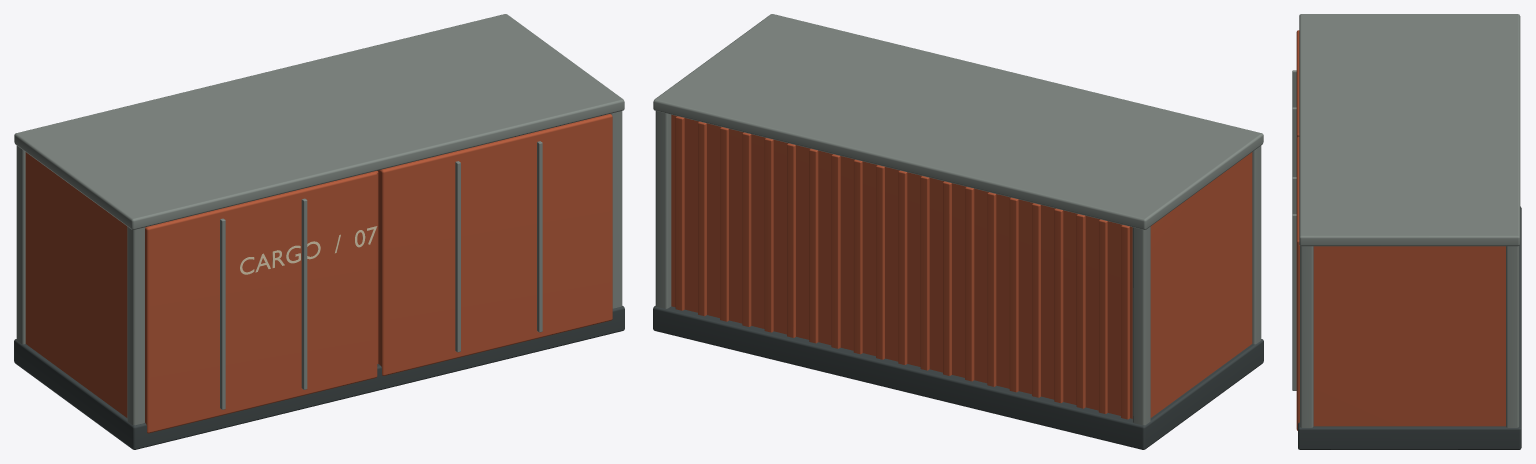
File: container.glb
3 renders of one model, left to right at view 1: azimuth 30°, elevation 25°; view 2: azimuth 150°, elevation 25°; view 3: azimuth 270°, elevation 25°, orthographic. The views are drawn at different scales.
Parts seen in each view (by area): view 1: Roof.001, Cargo door.001, Cargo door, Shell, Chassis, Corner post, Corner post.002, Corner post.001, Door rod.001, Door rod, Door rod.002, Door rod.003 (+1 smaller); view 2: Shell, Roof.001, Chassis, Corner post.001, Corner post.003, Corner post, Pressed steel rib.013, Pressed steel rib.033, Pressed steel rib.005, Pressed steel rib.011, Pressed steel rib.019, Pressed steel rib.027 (+15 smaller); view 3: Roof.001, Shell, Chassis, Corner post.003, Corner post.002, Cargo door.001, Door rod.003, Cargo door, Door rod.001.
Boxes of the visible parts, bbox=[...] form: Roof.001: bbox=[14, 14, 624, 229]; Cargo door.001: bbox=[377, 114, 612, 375]; Cargo door: bbox=[145, 171, 377, 433]; Shell: bbox=[25, 152, 127, 417]; Chassis: bbox=[14, 306, 624, 449]; Corner post: bbox=[127, 226, 145, 425]; Corner post.002: bbox=[610, 111, 622, 308]; Corner post.001: bbox=[16, 146, 25, 344]; Door rod.001: bbox=[301, 198, 307, 389]; Door rod: bbox=[220, 218, 225, 409]; Door rod.002: bbox=[455, 161, 460, 352]; Door rod.003: bbox=[537, 141, 542, 332]; Shell: bbox=[671, 114, 1252, 418]; Roof.001: bbox=[653, 14, 1263, 229]; Chassis: bbox=[653, 306, 1263, 449]; Corner post.001: bbox=[1132, 226, 1150, 425]; Corner post.003: bbox=[655, 111, 671, 308]; Corner post: bbox=[1252, 146, 1261, 344]; Pressed steel rib.013: bbox=[987, 192, 996, 386]; Pressed steel rib.033: bbox=[764, 138, 773, 332]; Pressed steel rib.005: bbox=[1076, 214, 1085, 408]; Pressed steel rib.011: bbox=[1009, 197, 1018, 392]; Pressed steel rib.019: bbox=[920, 176, 929, 370]; Pressed steel rib.027: bbox=[831, 154, 840, 348]; Roof.001: bbox=[1299, 14, 1520, 246]; Shell: bbox=[1313, 246, 1505, 426]; Chassis: bbox=[1298, 206, 1521, 449]; Corner post.003: bbox=[1506, 246, 1519, 427]; Corner post.002: bbox=[1300, 246, 1313, 427]; Cargo door.001: bbox=[1296, 137, 1299, 430]; Door rod.003: bbox=[1292, 214, 1296, 390]; Cargo door: bbox=[1296, 30, 1299, 137]; Door rod.001: bbox=[1292, 107, 1296, 177].
Bounding box in the file's own units: 5.91 × 2.64 × 2.56.
